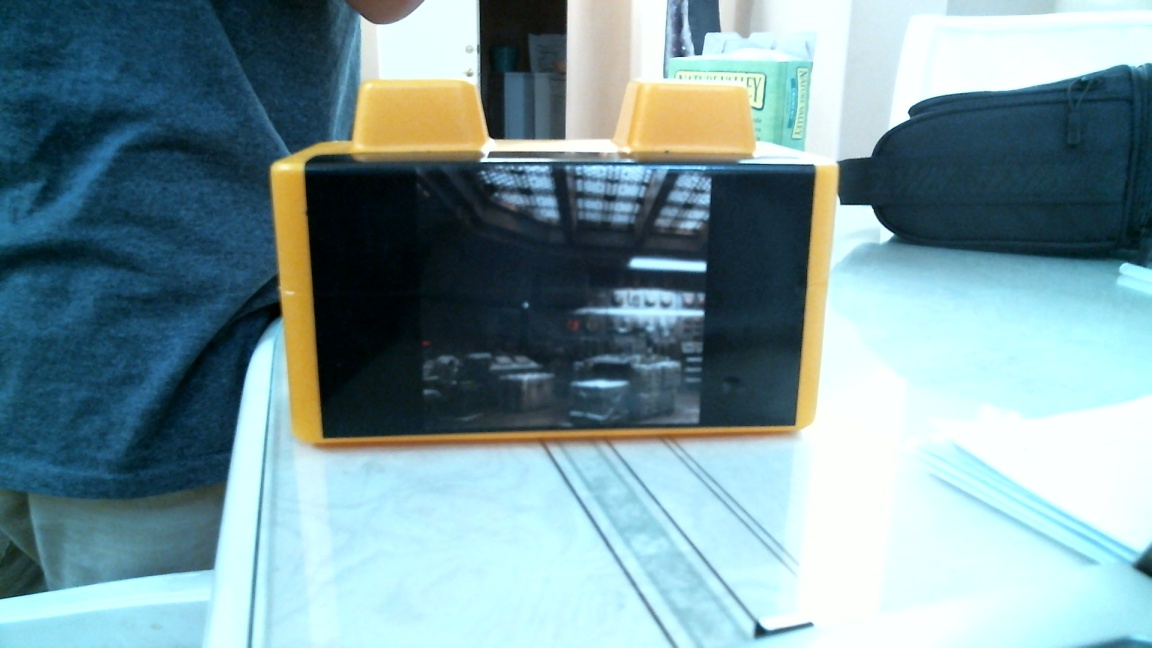skystone: (266, 79, 838, 450)
